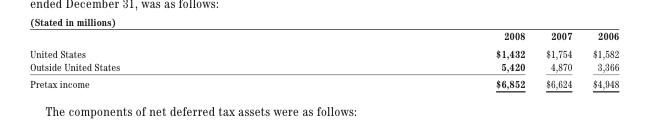table: (29, 29, 618, 89)
table column: (29, 29, 307, 89), (307, 29, 534, 89), (534, 29, 581, 89), (581, 29, 618, 89)
table column header: (29, 29, 618, 44)
table row: (29, 29, 618, 44), (29, 44, 618, 59), (29, 59, 618, 74), (29, 74, 618, 89)
